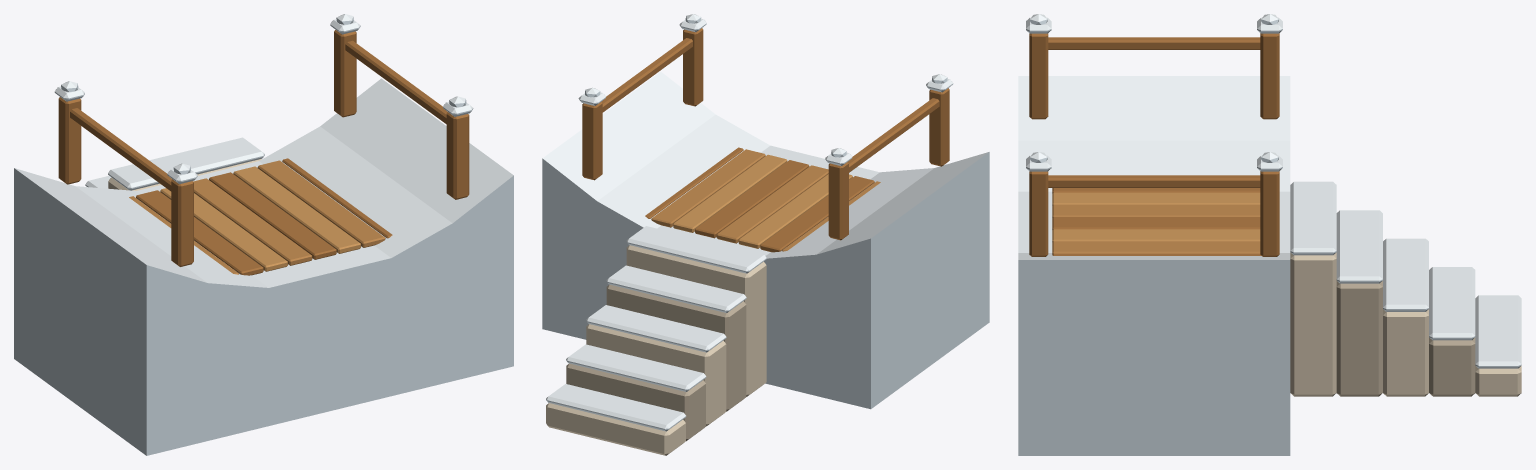
File: start_platform.glb
The picture shows the model from 3 angles, left to right: view 1: azimuth 30°, elevation 25°; view 2: azimuth 150°, elevation 25°; view 3: azimuth 270°, elevation 25°; orthographic projection. The views are drawn at different scales.
Visible parts, largest first — view 1: start_platform; view 2: start_platform; view 3: start_platform.
Part boxes in pixels (x1=…): start_platform: x1=14, y1=14, x2=513, y2=455; start_platform: x1=542, y1=14, x2=989, y2=455; start_platform: x1=1018, y1=14, x2=1521, y2=455.
Size of the model in its own units: 3.2 by 2.28 by 3.7.
